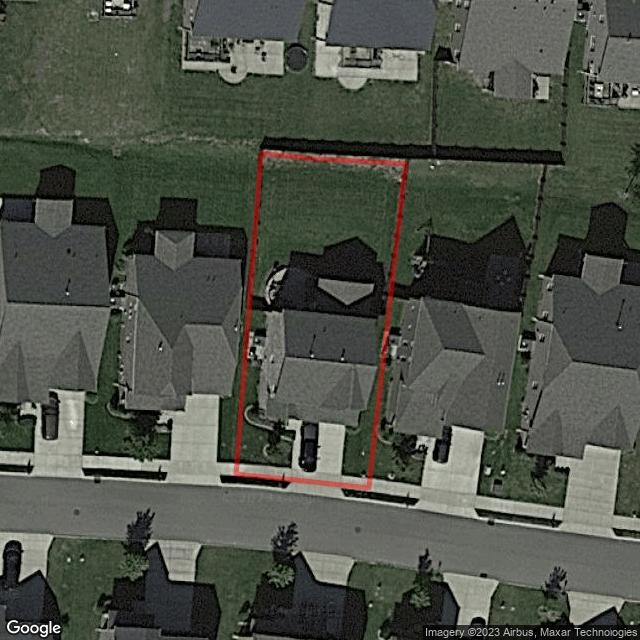Driveway: (286, 420, 345, 487)
Extra Driveway: (284, 482, 345, 500)
Extra Lawn: (234, 475, 289, 488), (342, 489, 369, 500)
House: (258, 308, 376, 426)
Other: (264, 266, 376, 315)
Sidewalk: (239, 463, 291, 476), (341, 476, 367, 484)
